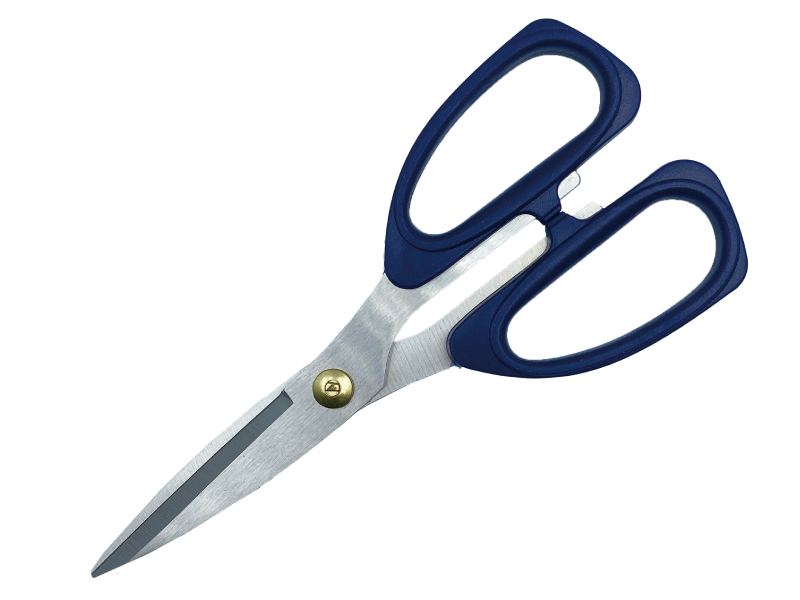scissors: (87, 11, 755, 582)
